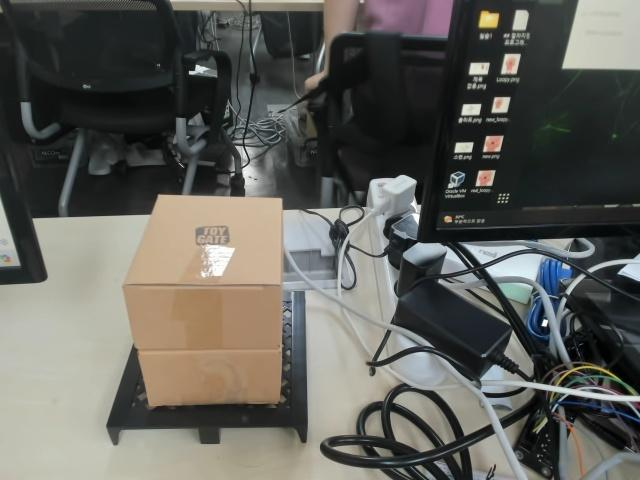box: (105, 193, 311, 446)
